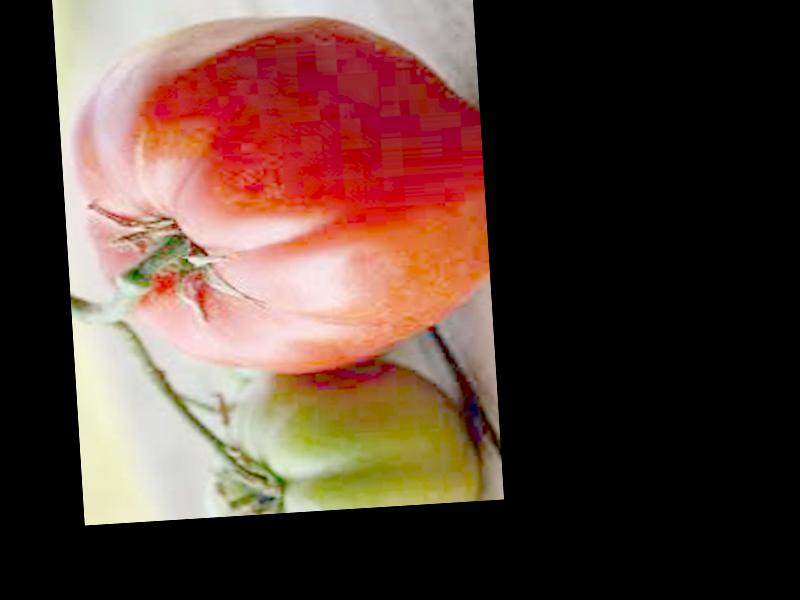Tomato: (61, 1, 495, 384)
